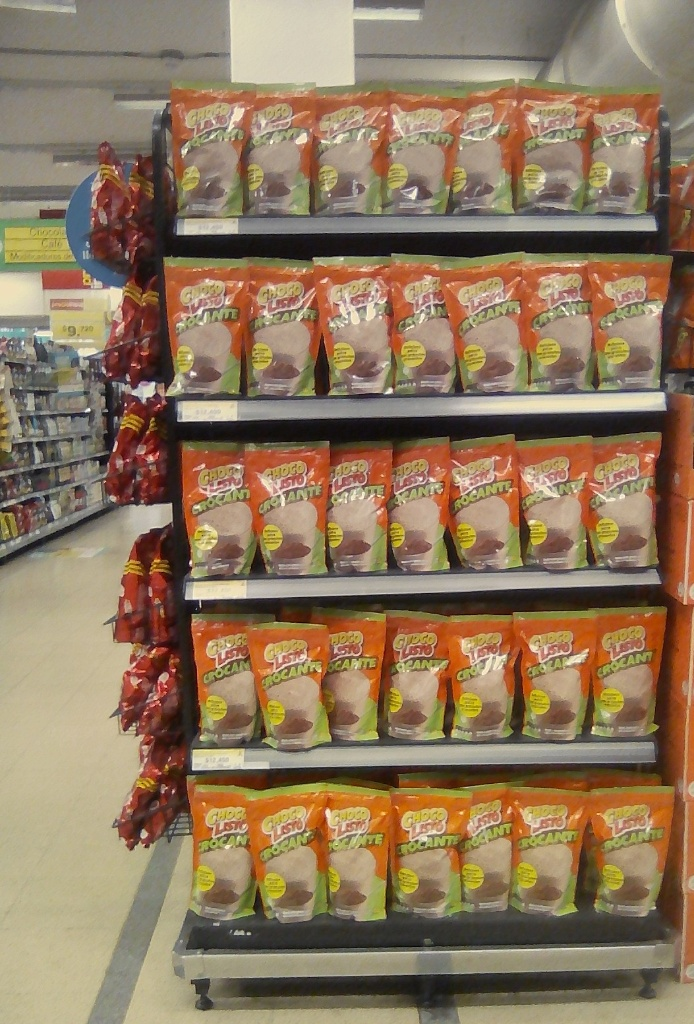COL0170102DYP50000: (171, 77, 260, 218)
